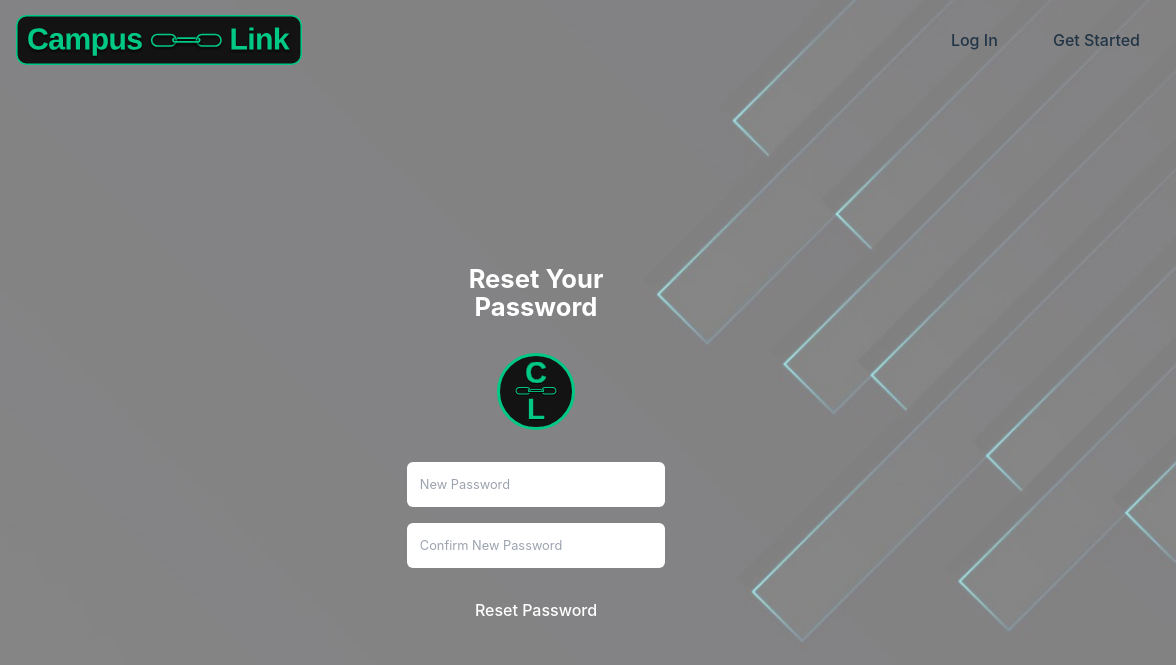
Test: Password Reset Page › submits form successfully and displays success message
# Enter matching passwords
Type "Password123!" into the password field with test id "new-password" at (536, 485), box [407,462,665,507]
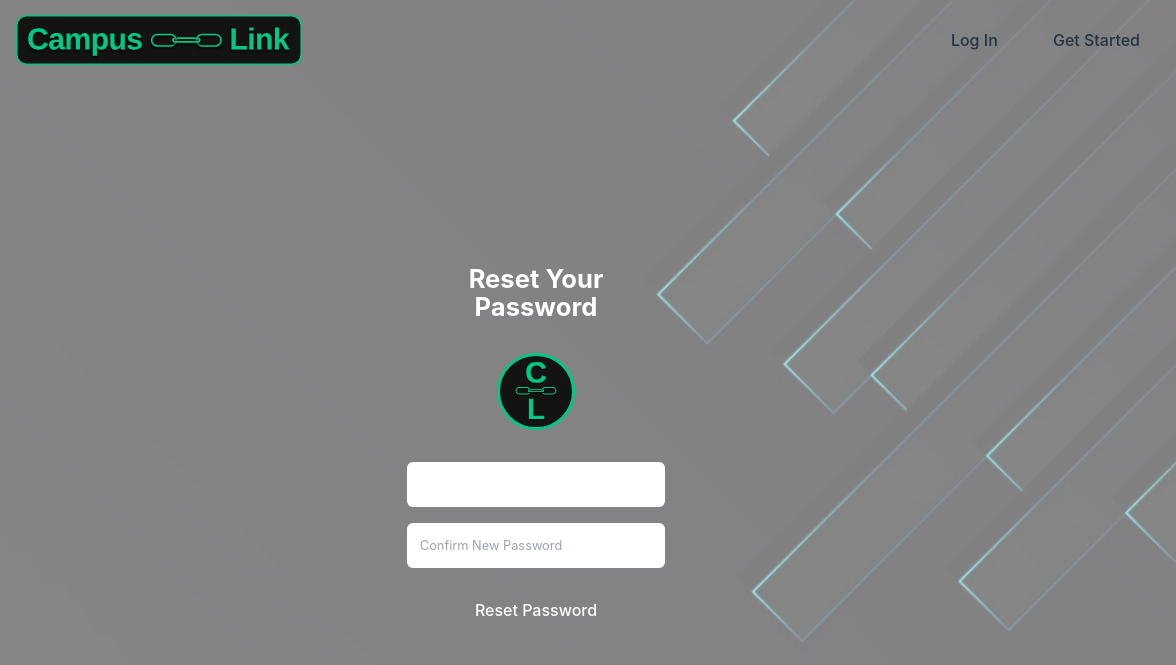
Type "Password123!" into the password field with test id "confirm-password" at (536, 545), box [407,523,665,568]
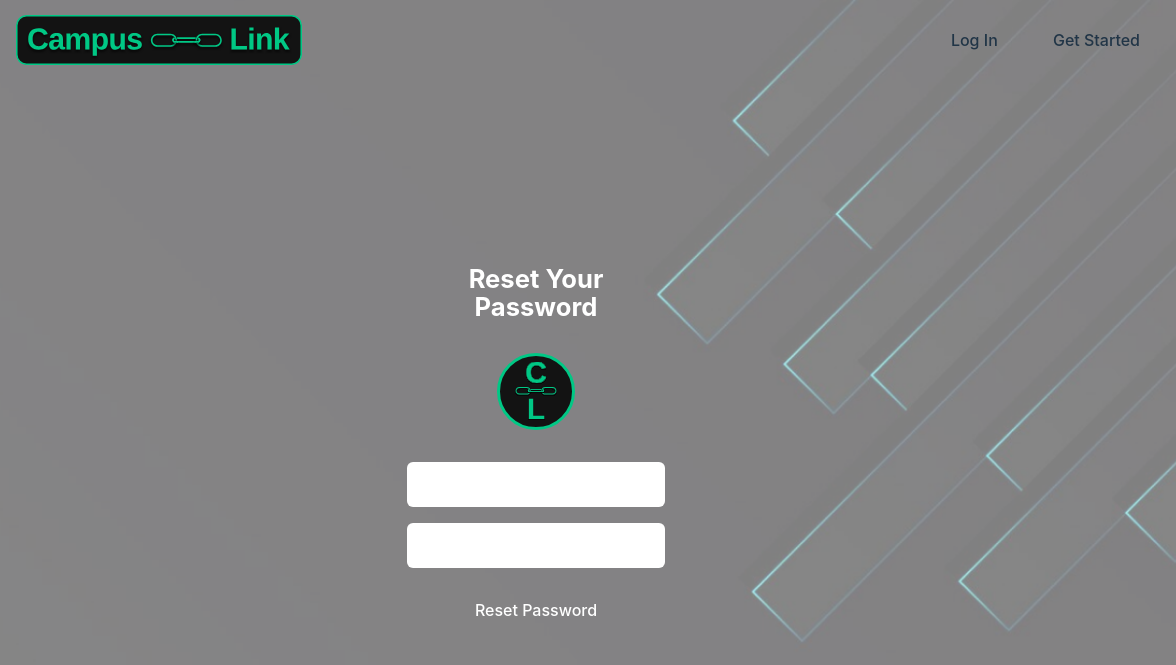
# Click submit
Click the button "Reset Password" at (536, 610), box [407,584,665,635]
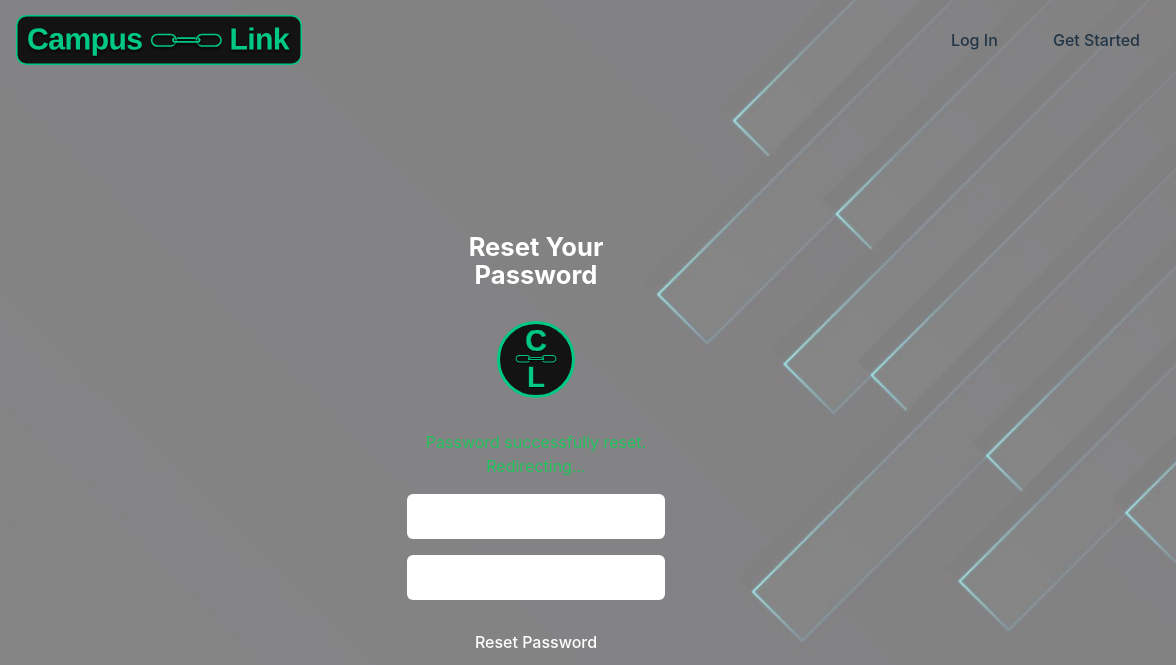
Now the text "Password successfully reset. Redirecting..." is shown, box [407,430,665,478]
